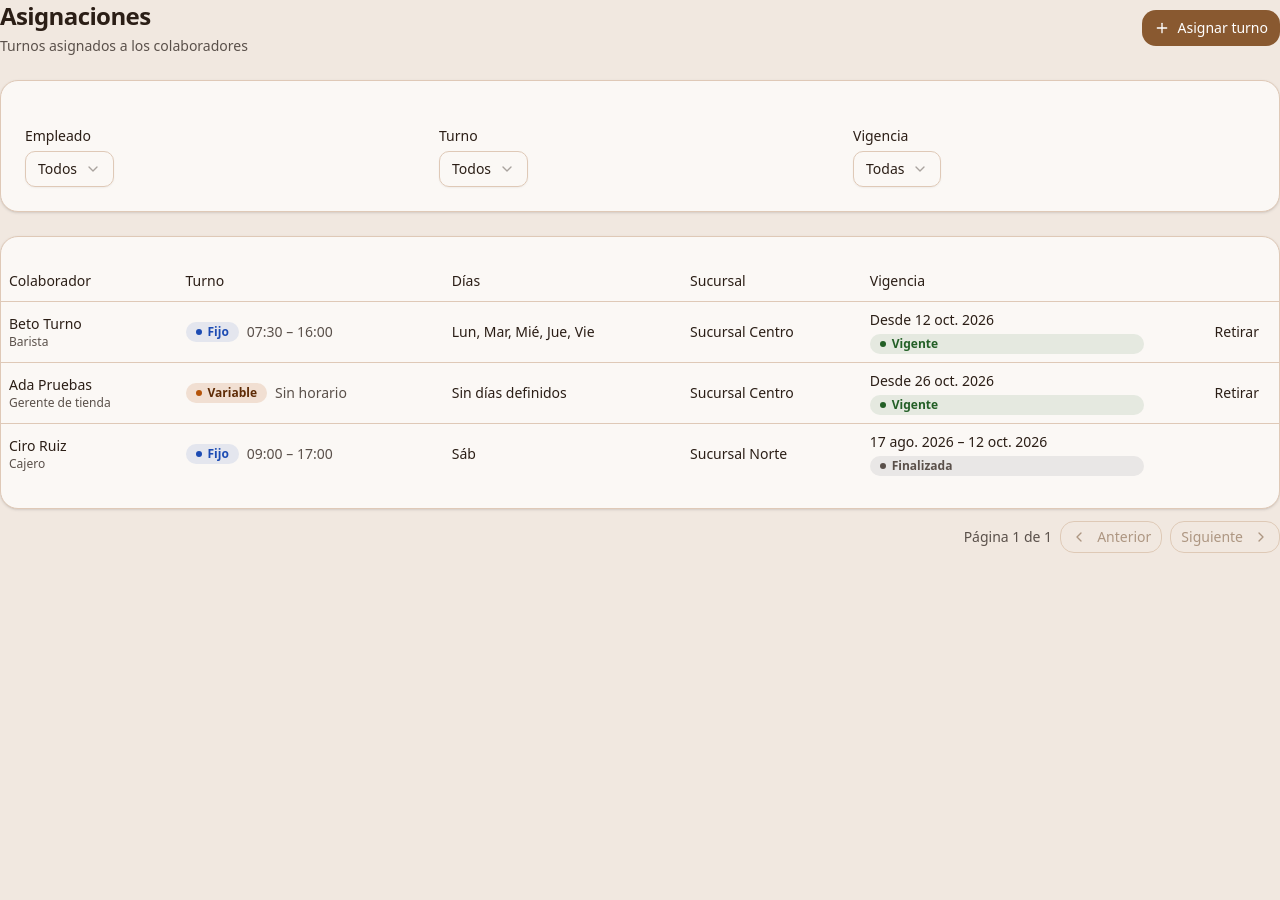
Listado de asignaciones › retira una asignación fijando su fecha de fin
Expected: the text "Beto Turno" is shown, [9,314,82,332]
Click the button "Retirar" in the row of "Beto Turno" at point(1237, 332), box [1203,316,1271,348]
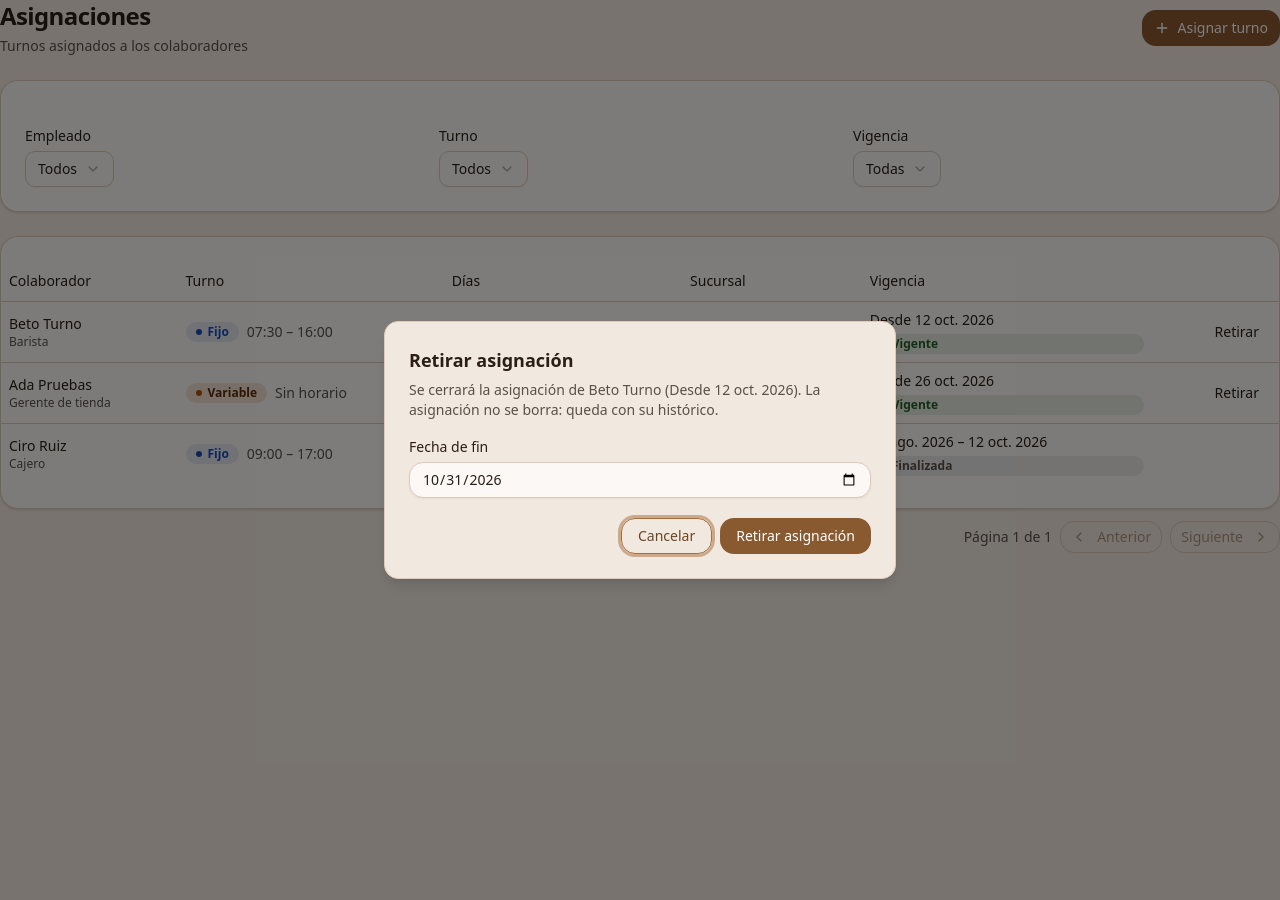
Expected: the dialog shows "Se cerrará la asignación", [409,380,820,419]
Click the button "Retirar asignación" at point(796, 536), box [720,518,871,554]
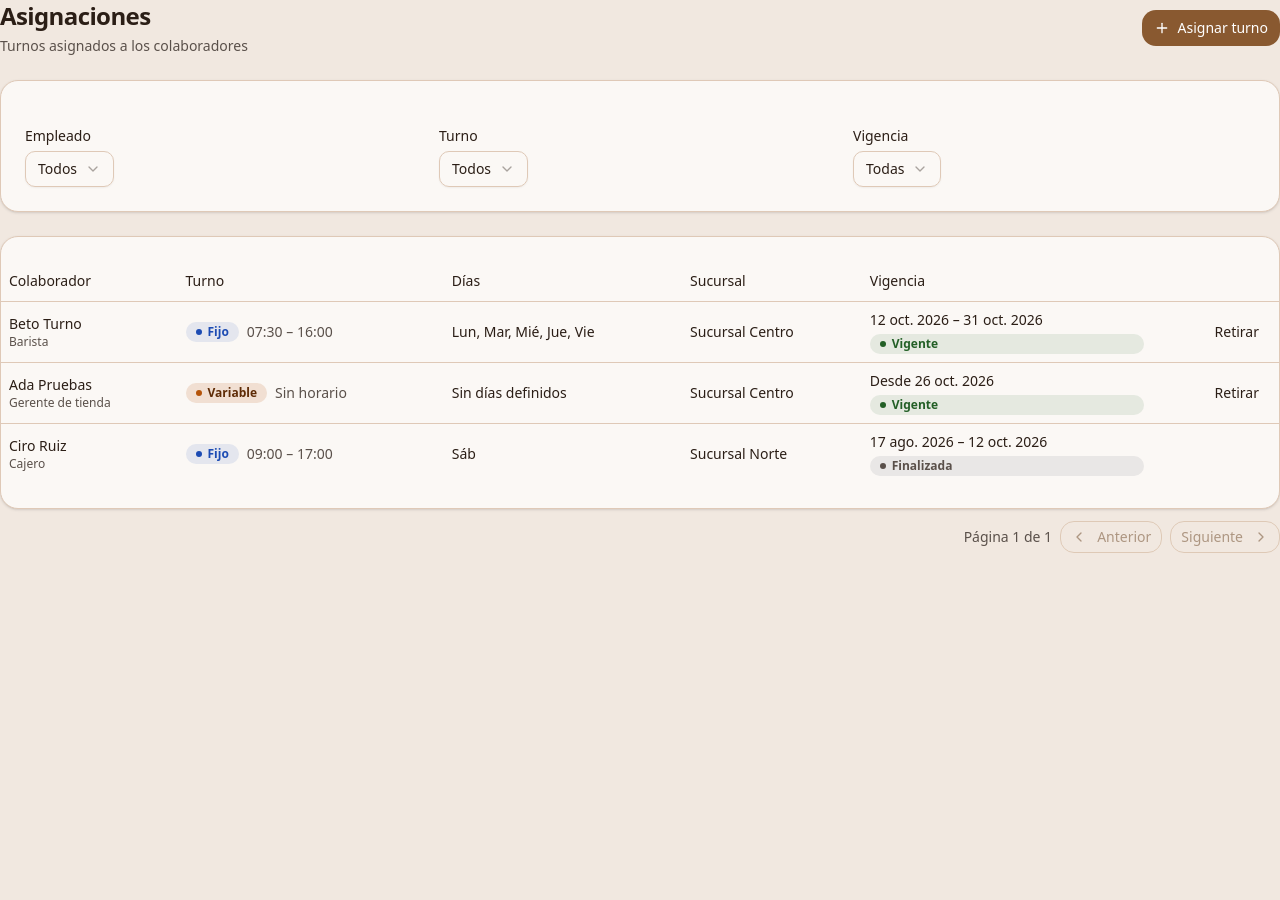
Expected: the dialog is gone
